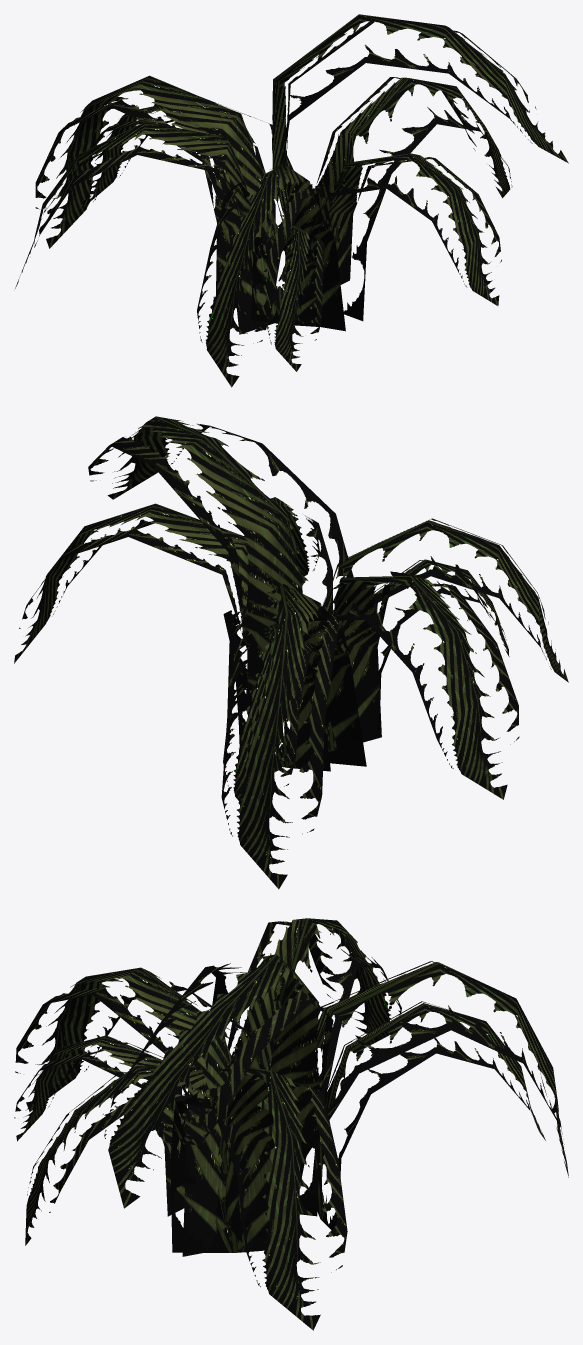
File: Tree1.dae
3 views of the same model, one above another, from view 1: azimuth 30°, elevation 25°; view 2: azimuth 150°, elevation 25°; view 3: azimuth 270°, elevation 25° (orthographic). The views are drawn at different scales.
Parts seen in each view (by area): view 1: bush_fern_joined; view 2: bush_fern_joined; view 3: bush_fern_joined.
Part boxes in pixels (left/top/right/bottom): bush_fern_joined: left=15, top=14, right=568, bottom=387; bush_fern_joined: left=14, top=416, right=568, bottom=889; bush_fern_joined: left=14, top=918, right=568, bottom=1330.
Size of the model in its own units: 15.16 by 12.92 by 8.69.
Materials: 1 (1 with a texture image).
